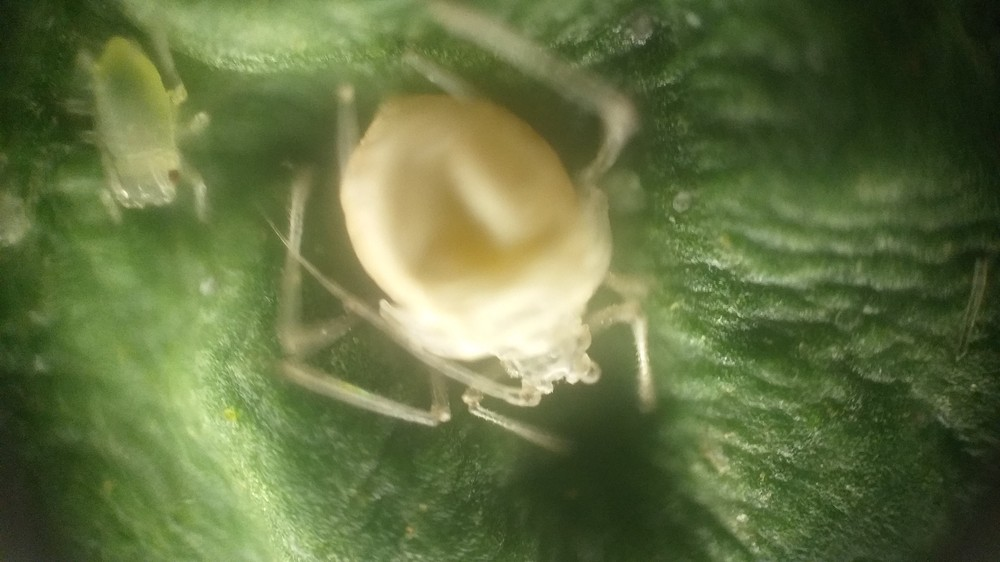Pulgon: (246, 21, 752, 472), (32, 17, 237, 240)
